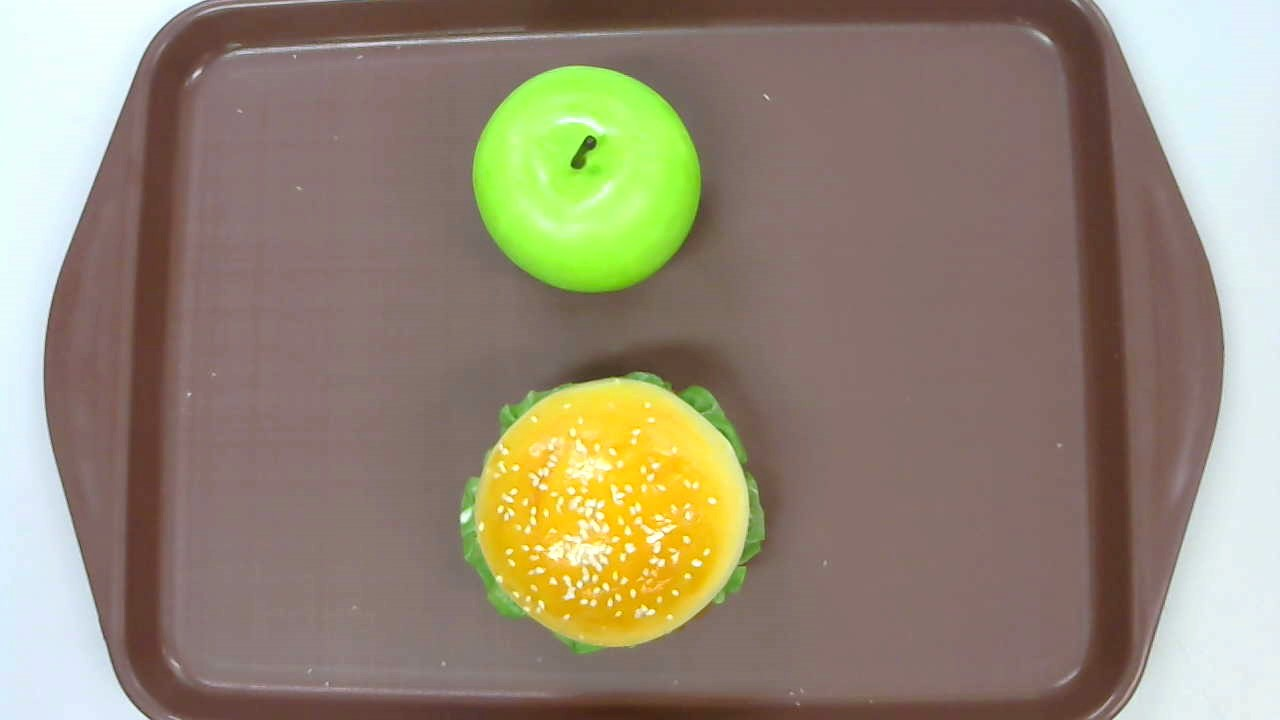green apple: (472, 66, 703, 291)
hamburger: (457, 369, 766, 657)
